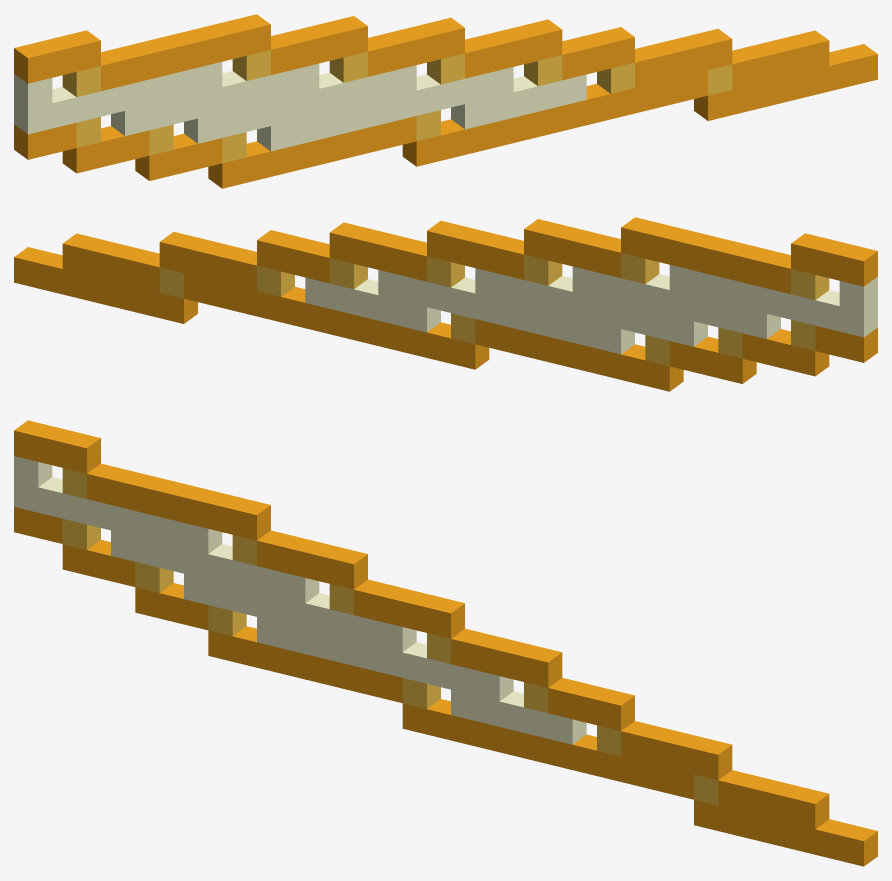
File: Fight_007_2_06_fx.obj
3 views of the same model, one above another, from view 1: azimuth 30°, elevation 25°; view 2: azimuth 150°, elevation 25°; view 3: azimuth 330°, elevation 25° (orthographic).
Size of the model in its own units: 3.5 by 0.9 by 0.1.
Materials: 1 (1 with a texture image).
